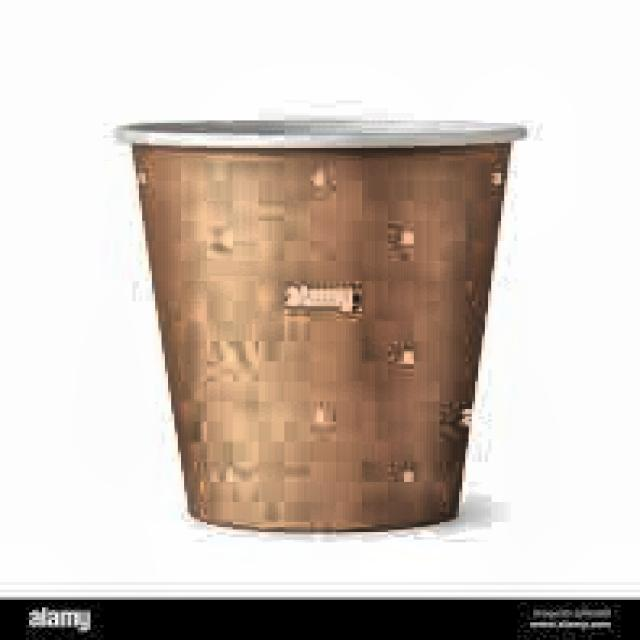Cup: (107, 109, 527, 530)
